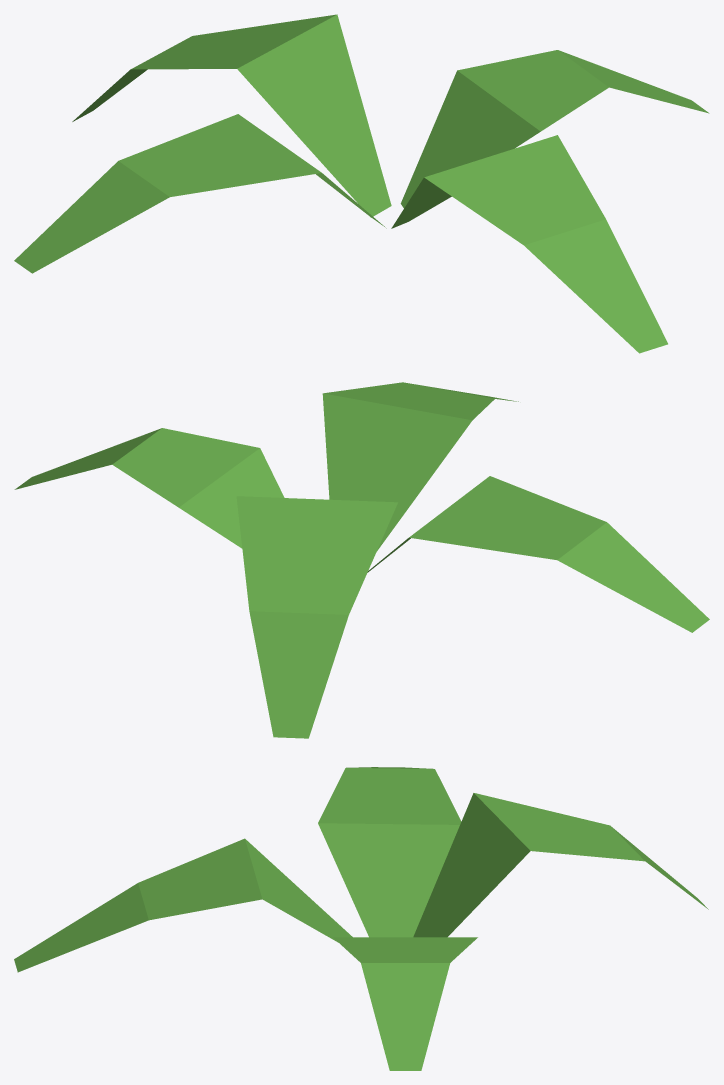
File: Planta03.fbx
3 renders of one model, top to bottom at view 1: azimuth 30°, elevation 25°; view 2: azimuth 150°, elevation 25°; view 3: azimuth 270°, elevation 25°, orthographic. The views are drawn at different scales.
Visible parts, largest first — view 1: Plane.024; view 2: Plane.024; view 3: Plane.024.
Boxes of the visible parts, x1,y1,x2,y2 form: Plane.024: (14,14,709,353); Plane.024: (14,382,709,738); Plane.024: (14,767,708,1070).
Size of the model in its own units: 1215 by 242 by 1228.
